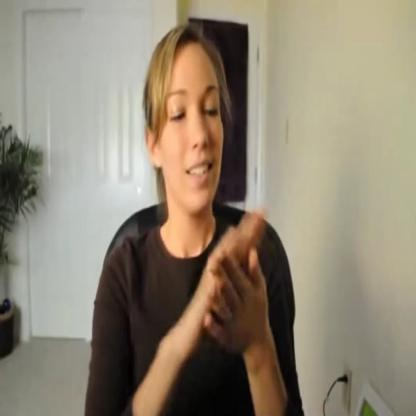NiceToMeetYou: (155, 212, 302, 381)
